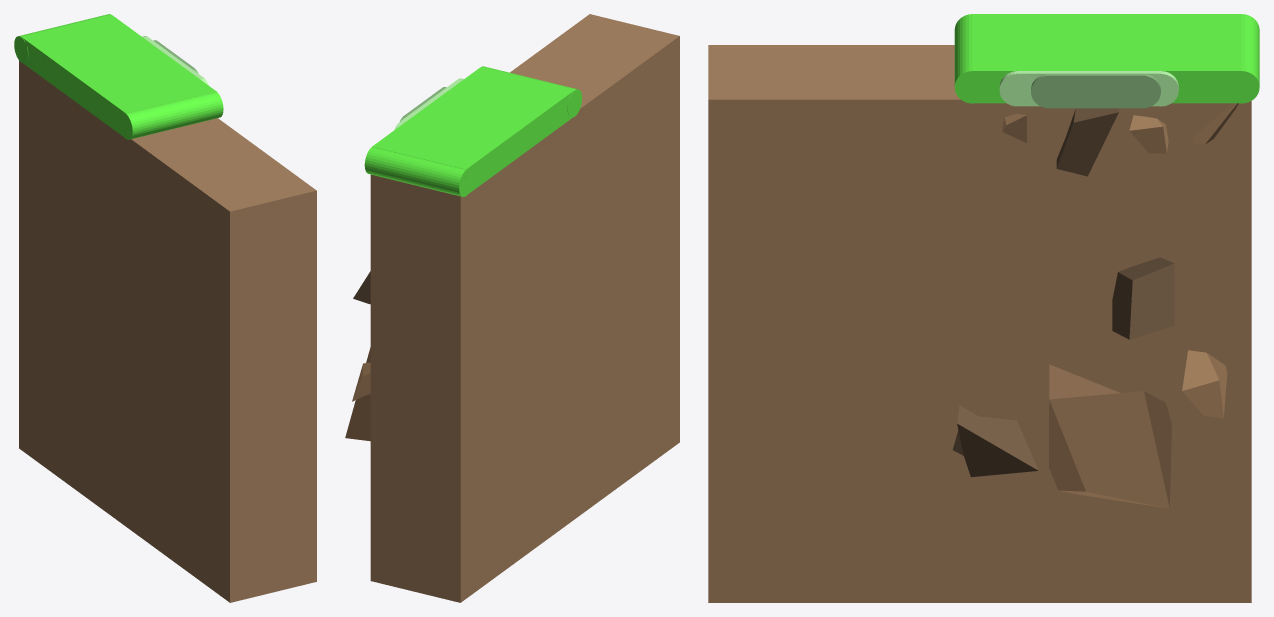
Rendered from 2.5D地形02.fbx.
3 views of the same model, side by side, from view 1: azimuth 30°, elevation 25°; view 2: azimuth 150°, elevation 25°; view 3: azimuth 270°, elevation 25° (orthographic). The views are drawn at different scales.
Parts seen in each view (by area): view 1: Cube, 立方体, 円柱, 円柱.001; view 2: Cube, 立方体, 円柱.001, 立方体.009, 円柱, 立方体.008; view 3: Cube, 立方体, 立方体.009, 立方体.007, 立方体.010, 立方体.002, 立方体.005, 立方体.008, 円柱, 円柱.001, 立方体.004, 円柱.004 (+2 smaller).
Part boxes in pixels (x1,y1,x2,y2): Cube: (19,60,316,602); 立方体: (21,15,216,136); 円柱: (118,91,223,139); 円柱.001: (14,14,111,63); Cube: (370,14,679,602); 立方体: (372,67,574,193); 円柱.001: (364,147,473,196); 立方体.009: (345,347,370,441); 円柱: (481,66,582,117); 立方体.008: (352,362,370,401); Cube: (708,45,1251,602); 立方体: (972,14,1241,103); 立方体.009: (1049,364,1171,508); 立方体.007: (1112,257,1174,339); 立方体.010: (952,405,1038,477); 立方体.002: (1046,74,1145,108); 立方体.005: (1056,108,1118,176); 立方体.008: (1182,350,1227,418); 円柱: (954,14,990,103); 円柱.001: (1223,14,1259,103); 立方体.004: (1129,115,1168,153); 円柱.004: (1031,74,1066,108).
Size of the model in its own units: 479 by 1313 by 1229.
